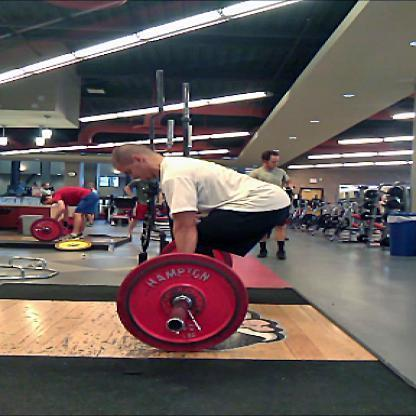Barbell: (167, 319, 186, 334)
